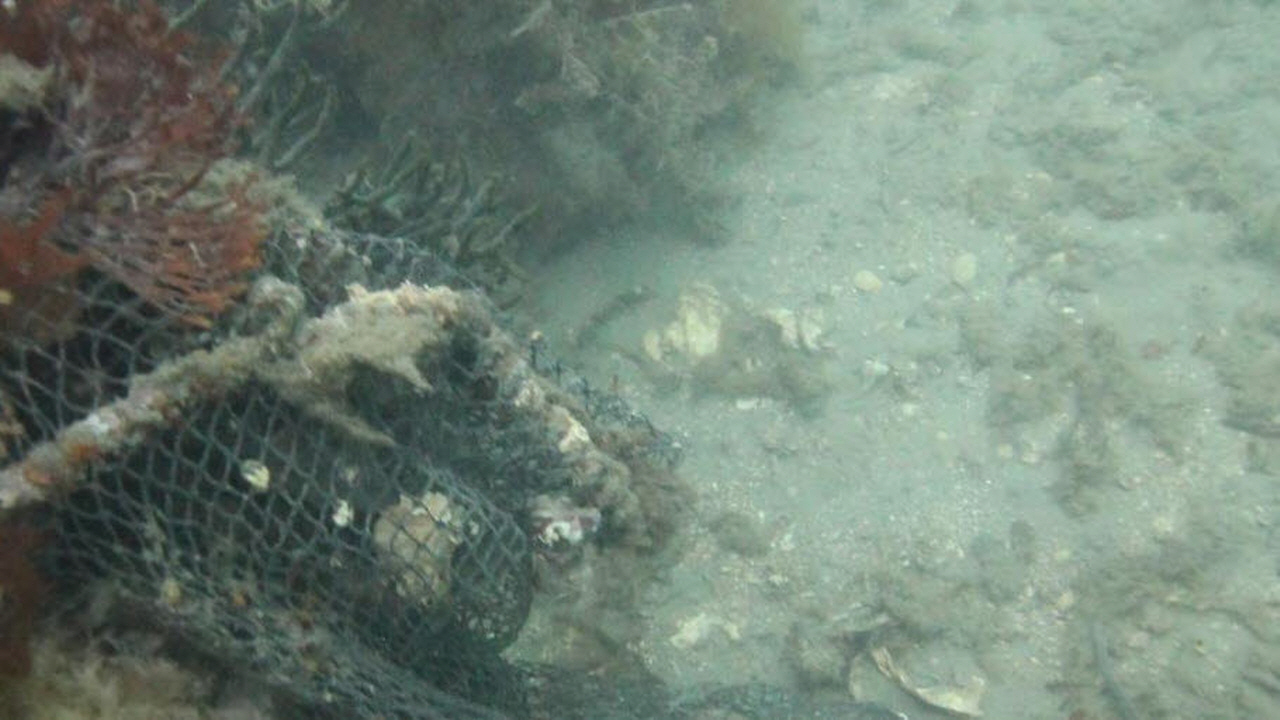fish net: (0, 192, 656, 720)
